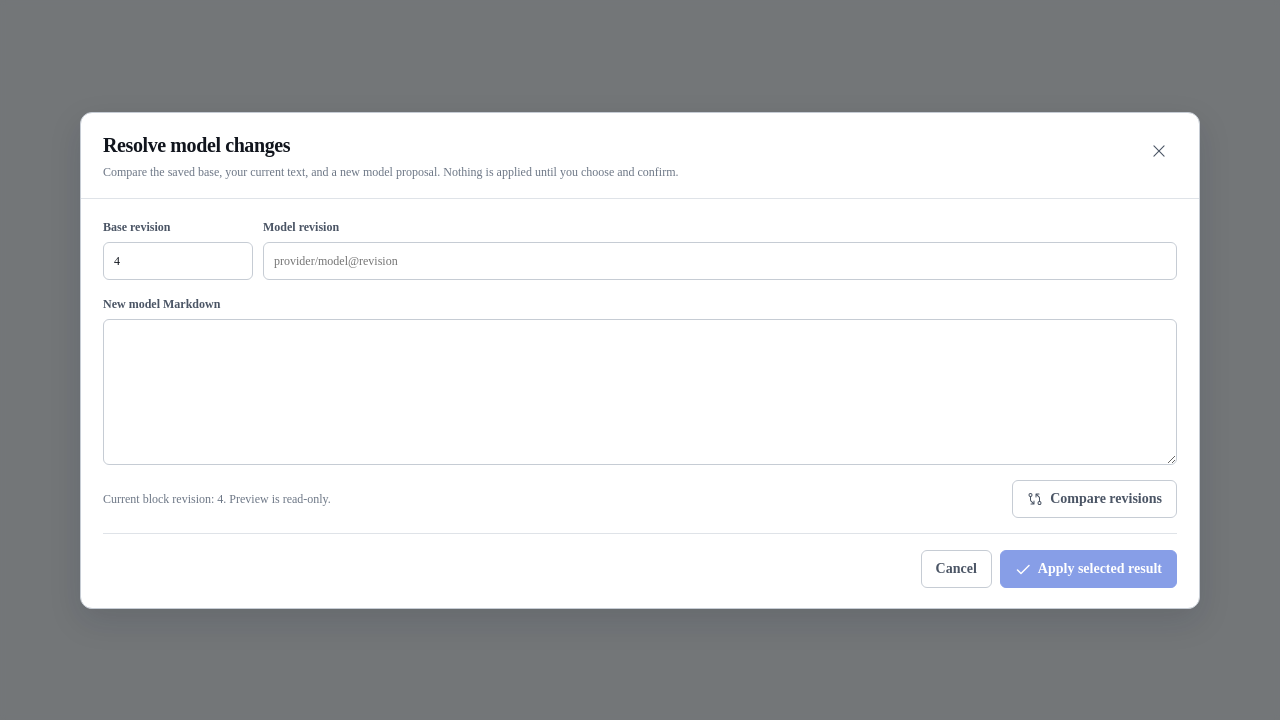
Test case: ModelMergeDialog › refreshes and blocks apply when the ETag is stale
Replace the text in the number field labelled "Base revision" with "3". click: (178, 260)
box: x1=103 y1=242 x2=253 y2=280
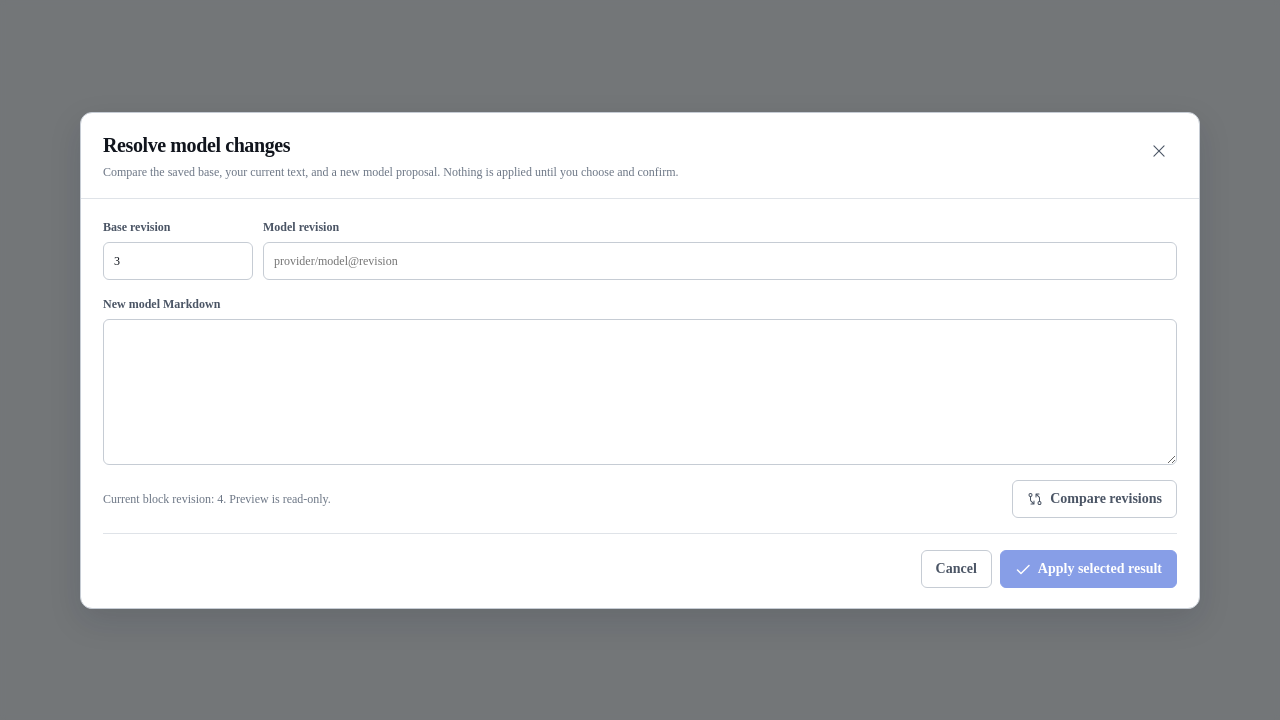
Type "model@2" into the field labelled "Model revision". click: (720, 260)
box: x1=263 y1=242 x2=1177 y2=280
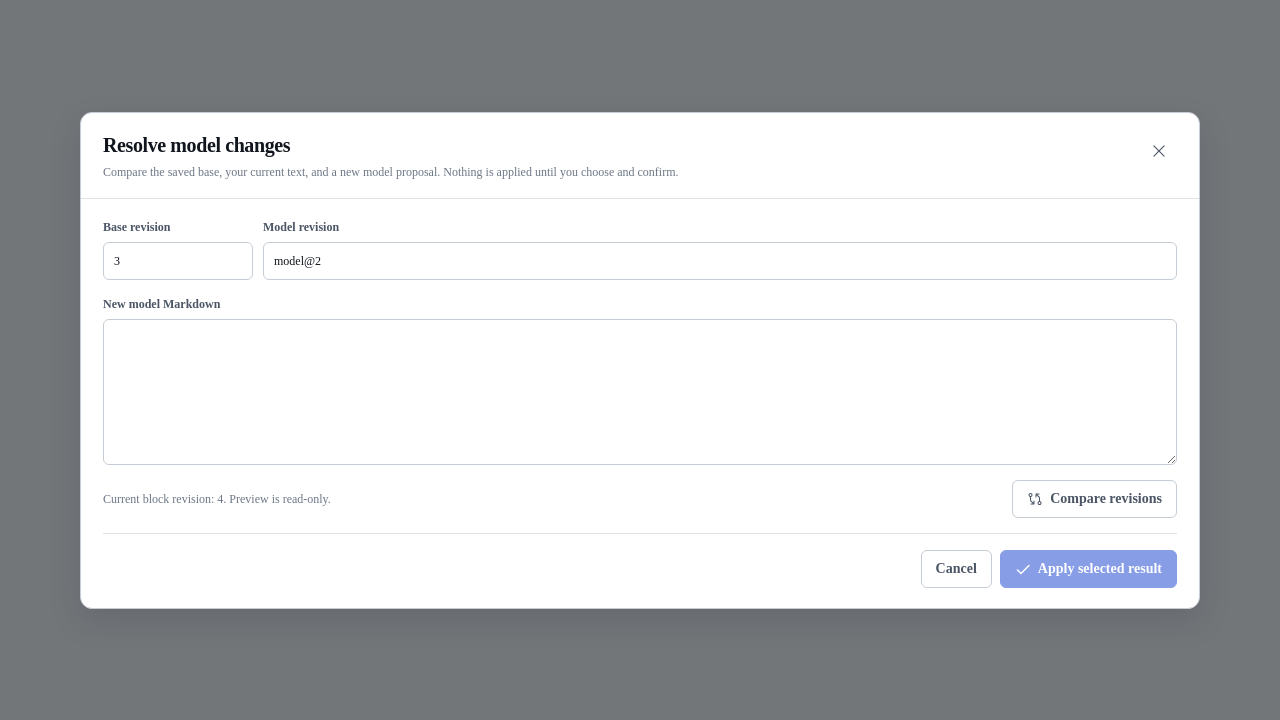
Type "Model version" into the text box labelled "New model Markdown". click: (640, 392)
box: x1=103 y1=318 x2=1177 y2=464
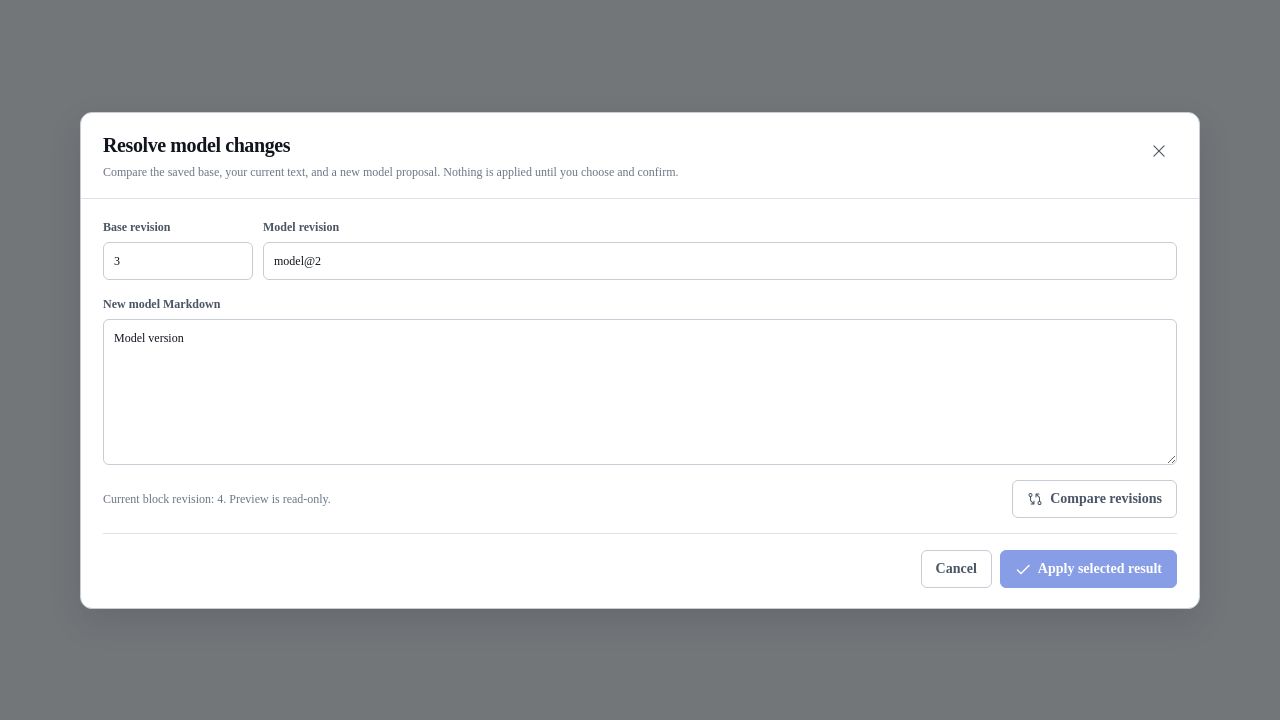
Click the button "Compare revisions". click: (1095, 498)
box: x1=1012 y1=480 x2=1177 y2=518
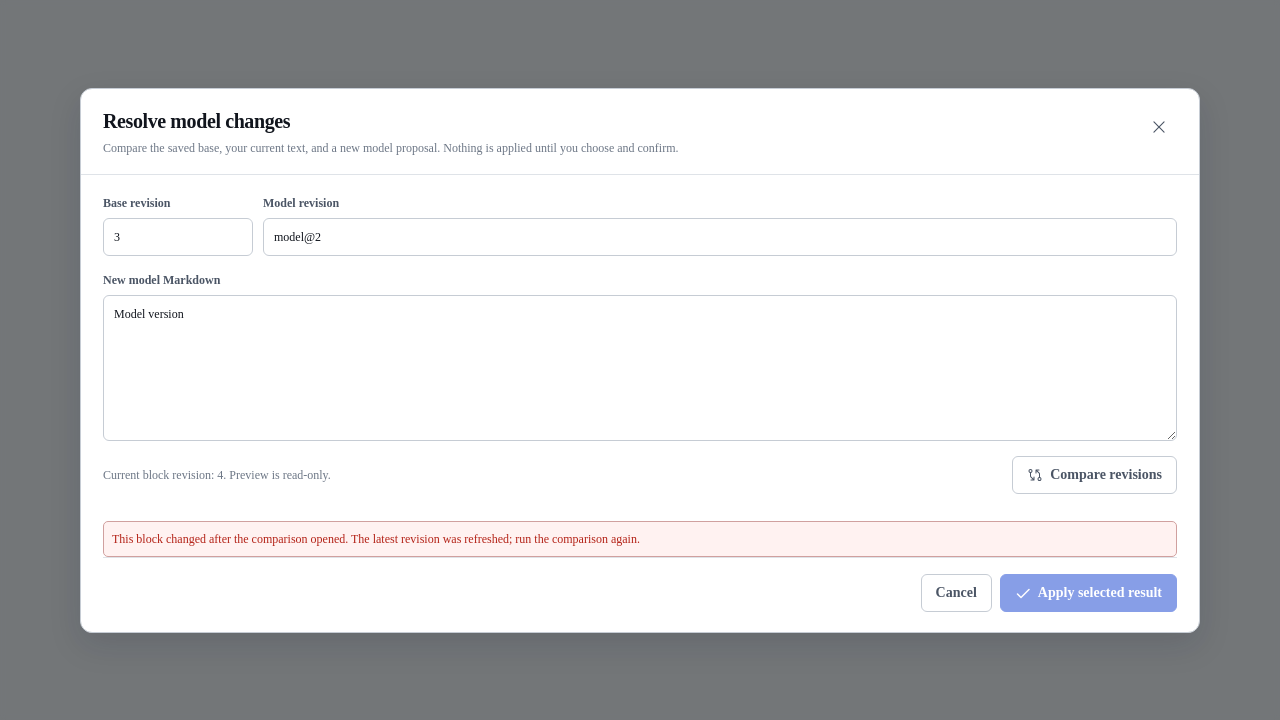
Expected: the message shows "changed after the comparison opened", x1=112 y1=532 x2=640 y2=546
